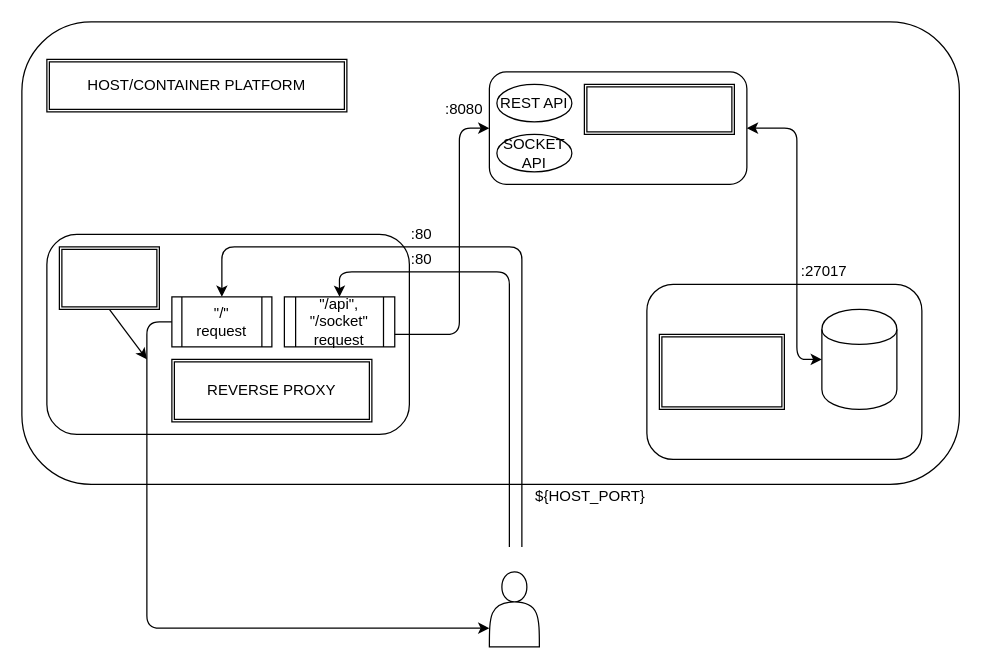
Image size: 981x669. Some labels were removed from this diagram. Here are the shapes that lost their labels. From the top down, the centre of each, then its label:
At [658,108]: "BACKEND TECHNOLOGIES".
At [108,277]: "FRONTEND STATIC FILES".
At [721,371]: "DATABASE".
